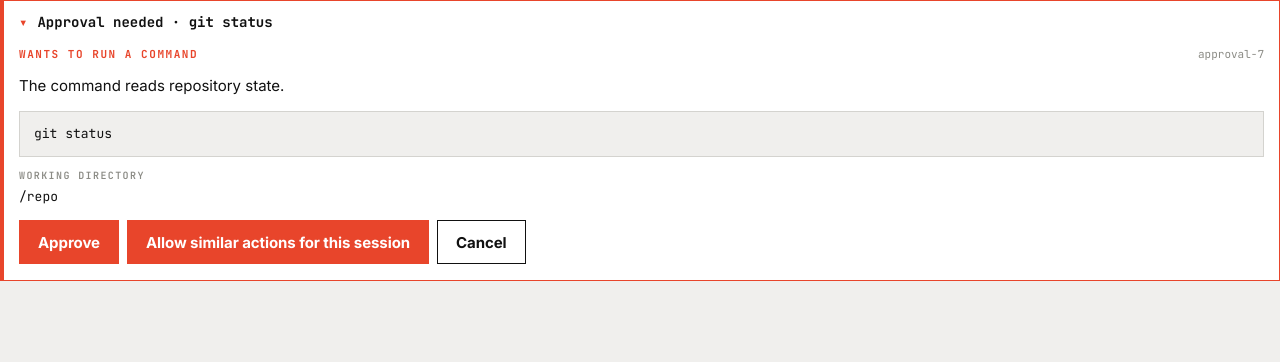
ApprovalEntry › restores controls and shows the reason when a decision is rejected
Step 1. Click the button "Approve" → (69, 242), box [19,220,119,264]
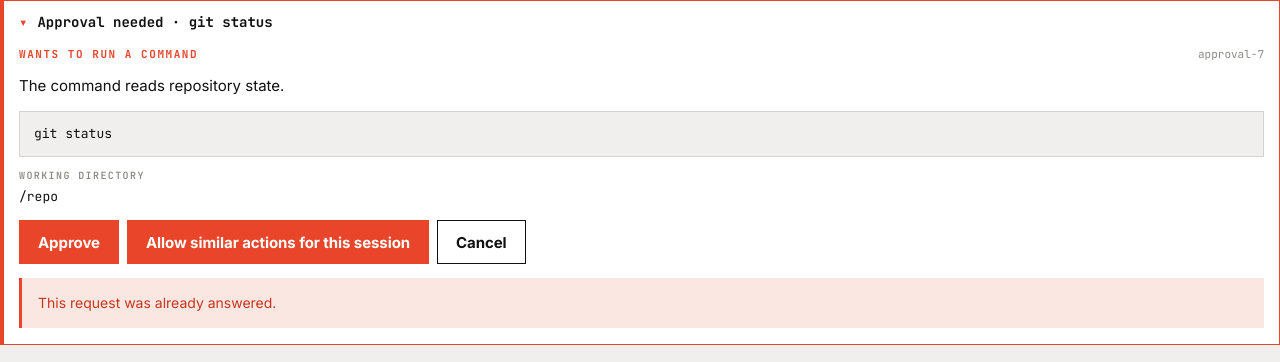
Expected: the button "Cancel" is enabled, [437,220,526,264]
Result: the text "This request was already answered." is shown at [19,278,1264,328]
